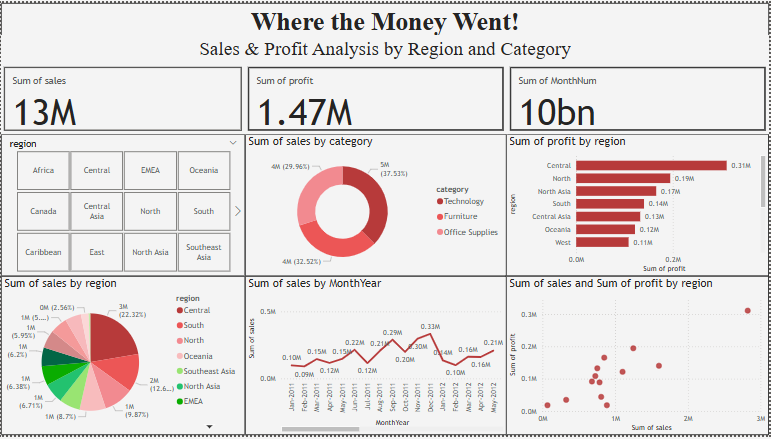

The page's visual inventory and layout, read from the dashboard file:
{"tool":"powerbi","page":{"name":"Page 1","canvas":[1280,720],"ordinal":0},"visuals":[{"type":"lineChart","fields":{"Category":["superstore_sales_new.MonthYear"],"Y":["Sum(superstore_sales_new.sales)"]},"box":[406.7,455,436.7,265],"z":0},{"type":"donutChart","fields":{"Category":["superstore_sales_new.category"],"Y":["Sum(superstore_sales_new.sales)"]},"box":[406.7,218.3,436.7,236.7],"z":1000},{"type":"pieChart","fields":{"Category":["superstore_sales_new.region"],"Y":["Sum(superstore_sales_new.sales)"]},"box":[0,455,406.7,265],"z":2000},{"type":"slicer","fields":{"Values":["superstore_sales_new.region"]},"box":[0,218.3,406.7,236.7],"z":3000},{"type":"clusteredBarChart","fields":{"Category":["superstore_sales_new.region"],"Y":["Sum(superstore_sales_new.profit)"]},"box":[841.7,218.3,438.3,236.7],"z":4000},{"type":"scatterChart","fields":{"X":["Sum(superstore_sales_new.sales)"],"Y":["Sum(superstore_sales_new.profit)"],"Category":["superstore_sales_new.region"]},"box":[841.7,455,438.3,265],"z":5000},{"type":"textbox","box":[0,0,1280,81.7],"z":6000},{"type":"textbox","box":[0,54,1280,48],"z":7000},{"type":"cardVisual","fields":{"Data":["Sum(superstore_sales_new.profit)"]},"box":[406.7,101.7,436.7,116.7],"z":8000},{"type":"cardVisual","fields":{"Data":["Sum(superstore_sales_new.MonthNum)"]},"box":[843.3,101.7,436.7,116.7],"z":9000},{"type":"cardVisual","fields":{"Data":["Sum(superstore_sales_new.sales)"]},"box":[0,101.7,406.7,116.7],"z":9001}]}

Visuals, with their boxes in screenshot pixels (x1, y1, x2, y2), scaled from the page's 1280x720 canvas onto the 771x439 screenshot:
lineChart - superstore_sales_new.MonthYear x Sum(superstore_sales_new.sales): (left=245, top=277, right=508, bottom=438)
donutChart - superstore_sales_new.category x Sum(superstore_sales_new.sales): (left=245, top=133, right=508, bottom=277)
pieChart - superstore_sales_new.region x Sum(superstore_sales_new.sales): (left=0, top=277, right=245, bottom=438)
slicer - superstore_sales_new.region: (left=0, top=133, right=245, bottom=277)
clusteredBarChart - superstore_sales_new.region x Sum(superstore_sales_new.profit): (left=507, top=133, right=770, bottom=277)
scatterChart - Sum(superstore_sales_new.sales) x Sum(superstore_sales_new.profit): (left=507, top=277, right=770, bottom=438)
textbox: (left=0, top=0, right=770, bottom=50)
textbox: (left=0, top=33, right=770, bottom=62)
cardVisual - Sum(superstore_sales_new.profit): (left=245, top=62, right=508, bottom=133)
cardVisual - Sum(superstore_sales_new.MonthNum): (left=508, top=62, right=770, bottom=133)
cardVisual - Sum(superstore_sales_new.sales): (left=0, top=62, right=245, bottom=133)
